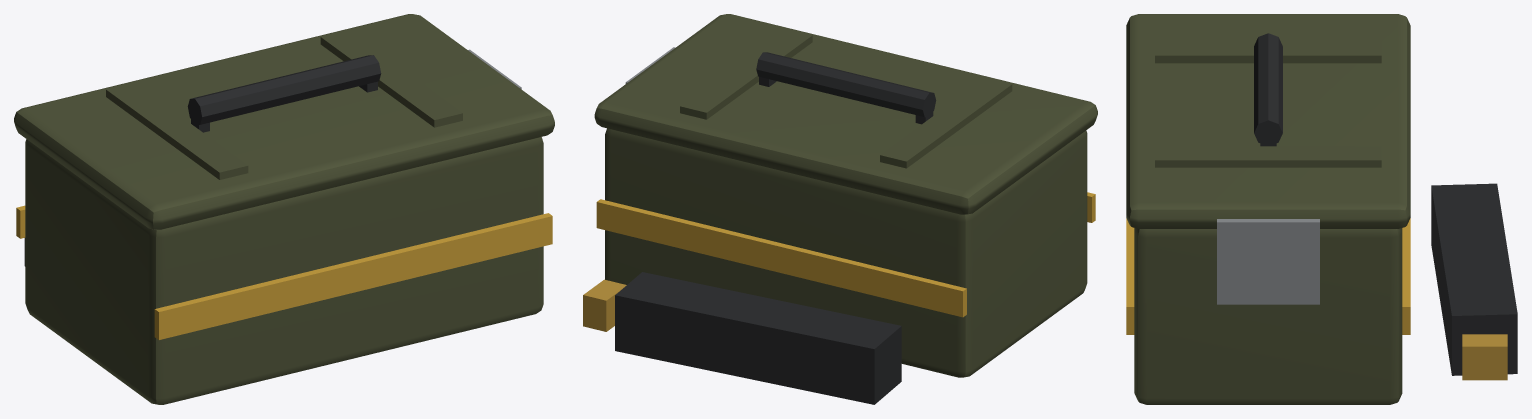
File: prop_ammo_pickup.glb
3 renders of one model, left to right at view 1: azimuth 30°, elevation 25°; view 2: azimuth 150°, elevation 25°; view 3: azimuth 270°, elevation 25°, orthographic. The views are drawn at different scales.
Parts seen in each view (by area): view 1: Body; view 2: Body; view 3: Body.
Boxes of the visible parts, box(x1,y1,x2,y2) form: Body: box(14, 14, 554, 404); Body: box(583, 14, 1097, 404); Body: box(1126, 14, 1517, 404).
Size of the model in its own units: 0.232 by 0.127 by 0.19.
